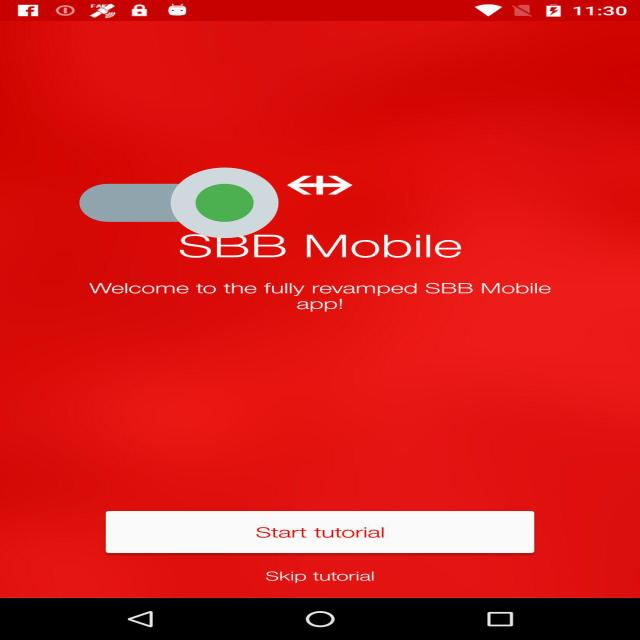social proof: (80, 138, 278, 268)
